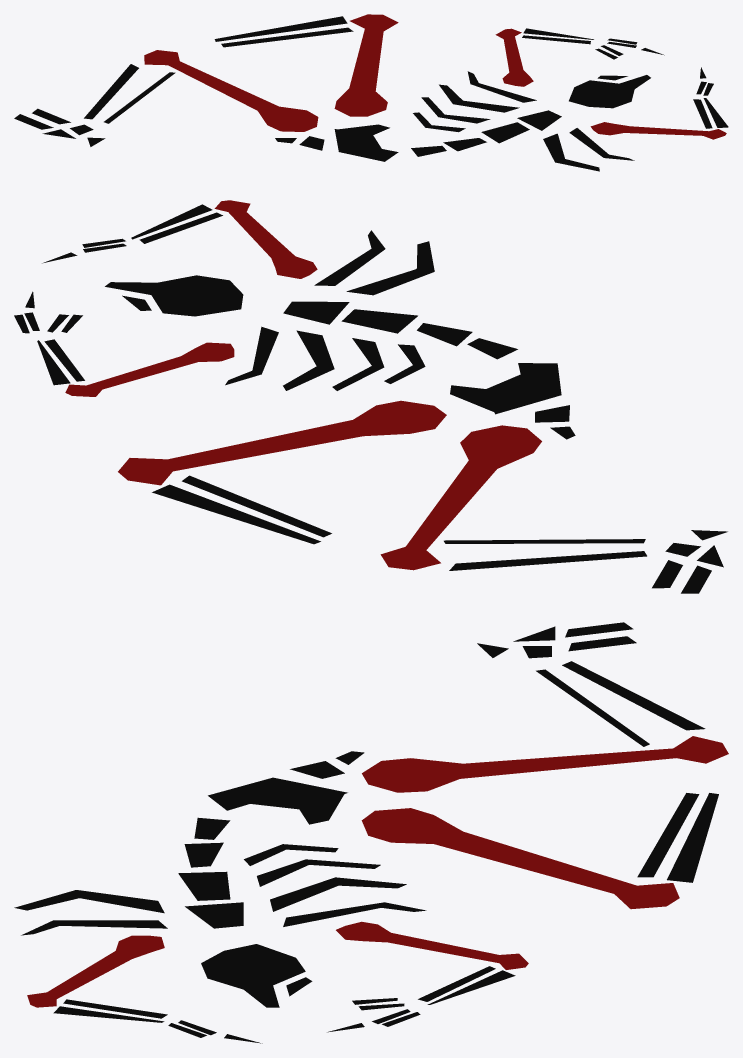
File: halfburiedskeleton.obj
3 views of the same model, one above another, from view 1: azimuth 30°, elevation 25°; view 2: azimuth 150°, elevation 25°; view 3: azimuth 270°, elevation 25° (orthographic). The views are drawn at different scales.
Parts seen in each view (by area): view 1: halfburiedskeleton_back; view 2: halfburiedskeleton_back; view 3: halfburiedskeleton_back.
Part boxes in pixels (x1,y1,x2,y2): halfburiedskeleton_back: (14, 14, 728, 171); halfburiedskeleton_back: (14, 200, 727, 593); halfburiedskeleton_back: (14, 622, 728, 1043).
Bounding box in the file's own units: 3.04 × 0 × 2.18.
